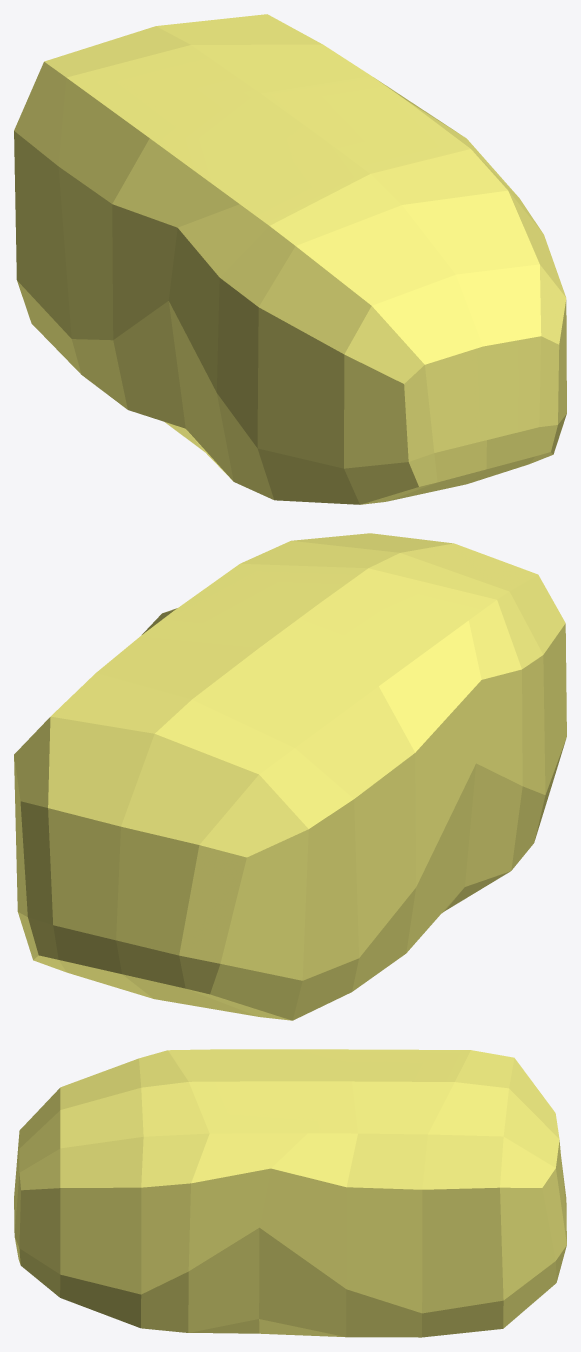
Rendered from PeeledPotato.fbx.
3 views of the same model, one above another, from view 1: azimuth 30°, elevation 25°; view 2: azimuth 150°, elevation 25°; view 3: azimuth 270°, elevation 25° (orthographic). The views are drawn at different scales.
Parts seen in each view (by area): view 1: Potato; view 2: Potato; view 3: Potato.
Part boxes in pixels (left/top/right/bottom): Potato: left=14, top=14, right=566, bottom=504; Potato: left=14, top=533, right=566, bottom=1020; Potato: left=14, top=1049, right=566, bottom=1337.
Size of the model in its own units: 10.81 by 9.5 by 22.56.
